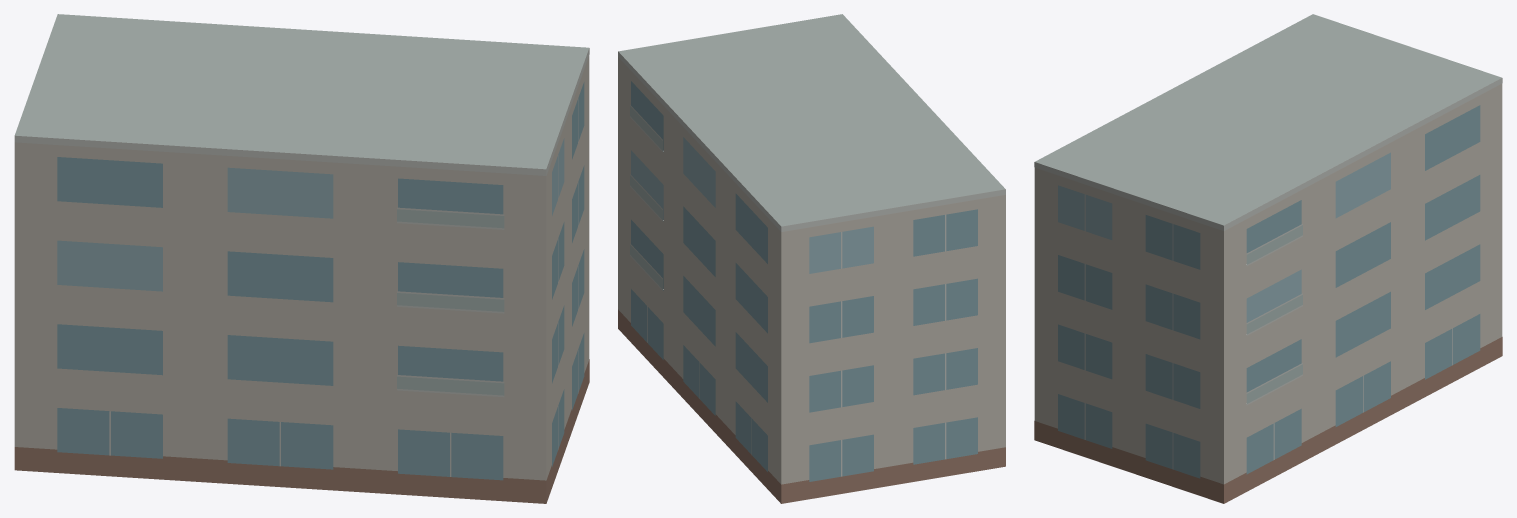
File: residential-bcc42ab3-34e8-40b8-af65-11fe55ac52b4.glb
3 renders of one model, left to right at view 1: azimuth 30°, elevation 25°; view 2: azimuth 150°, elevation 25°; view 3: azimuth 270°, elevation 25°, orthographic. The views are drawn at different scales.
Parts seen in each view (by area): view 1: residential-bcc42ab3-34e8-40b8-af65-11fe55ac52b4.tmp; view 2: residential-bcc42ab3-34e8-40b8-af65-11fe55ac52b4.tmp; view 3: residential-bcc42ab3-34e8-40b8-af65-11fe55ac52b4.tmp.
Part boxes in pixels (left/top/right/bottom): residential-bcc42ab3-34e8-40b8-af65-11fe55ac52b4.tmp: left=14, top=14, right=589, bottom=503; residential-bcc42ab3-34e8-40b8-af65-11fe55ac52b4.tmp: left=618, top=14, right=1005, bottom=503; residential-bcc42ab3-34e8-40b8-af65-11fe55ac52b4.tmp: left=1034, top=14, right=1502, bottom=503.
Size of the model in its own units: 19.9 by 12.2 by 18.6.
